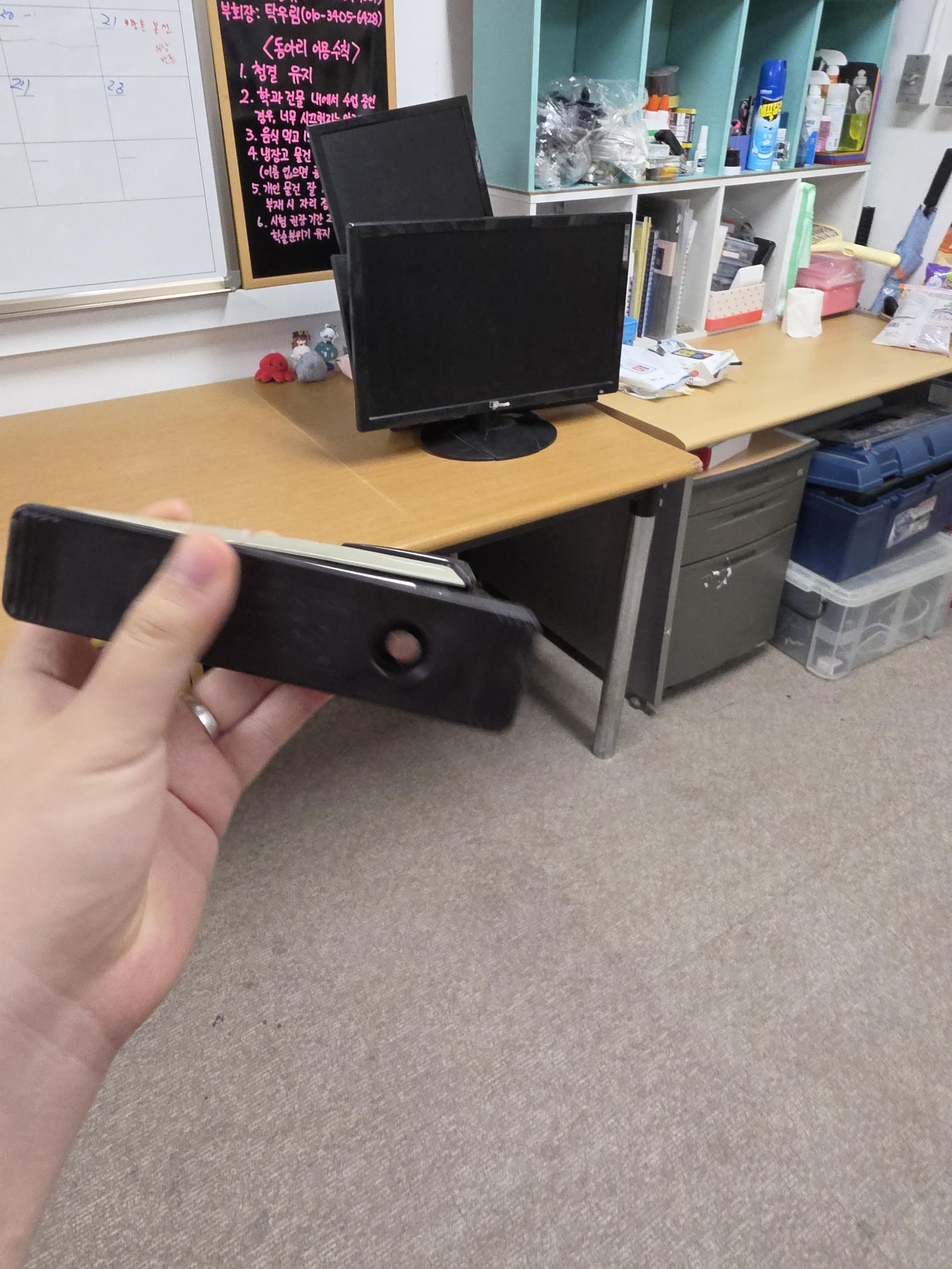stapler: (2, 502, 542, 733)
tissue: (782, 287, 824, 338)
